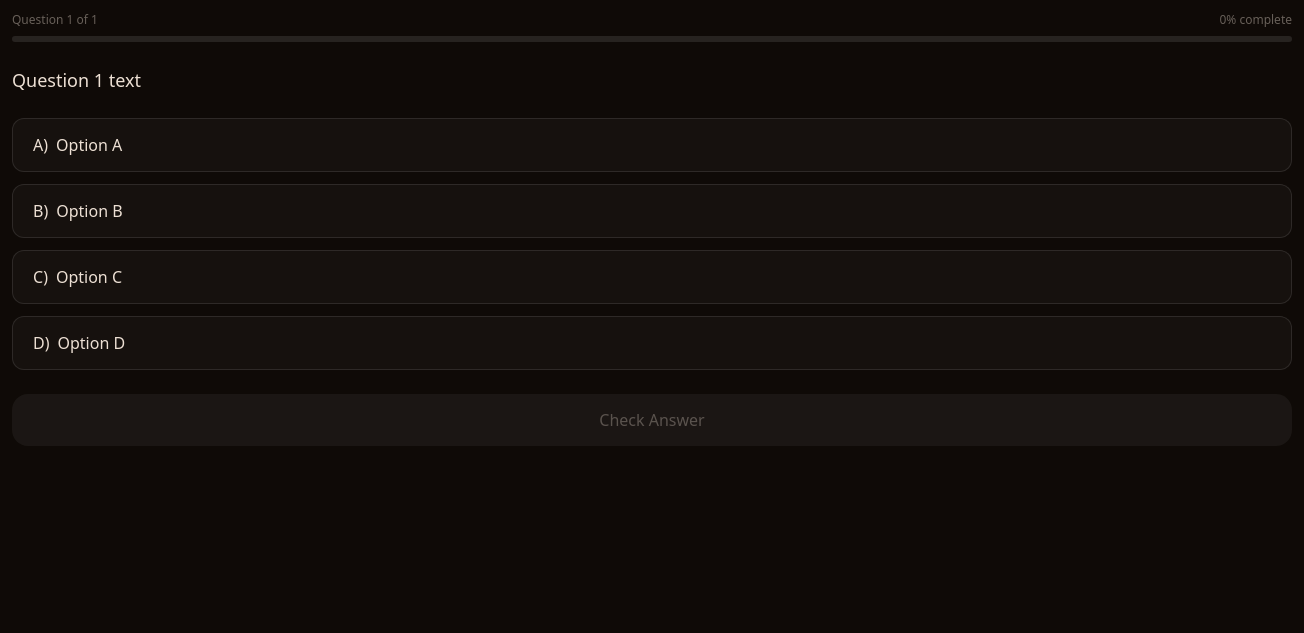
Test: QuizRenderer — answer selection › prevents changing the selection after revealing the answer
What coordinates should you click on to do the following:
click the button "A)Option A"
I would click on:
 (89, 145)
Its box is left=12, top=118, right=1292, bottom=172.
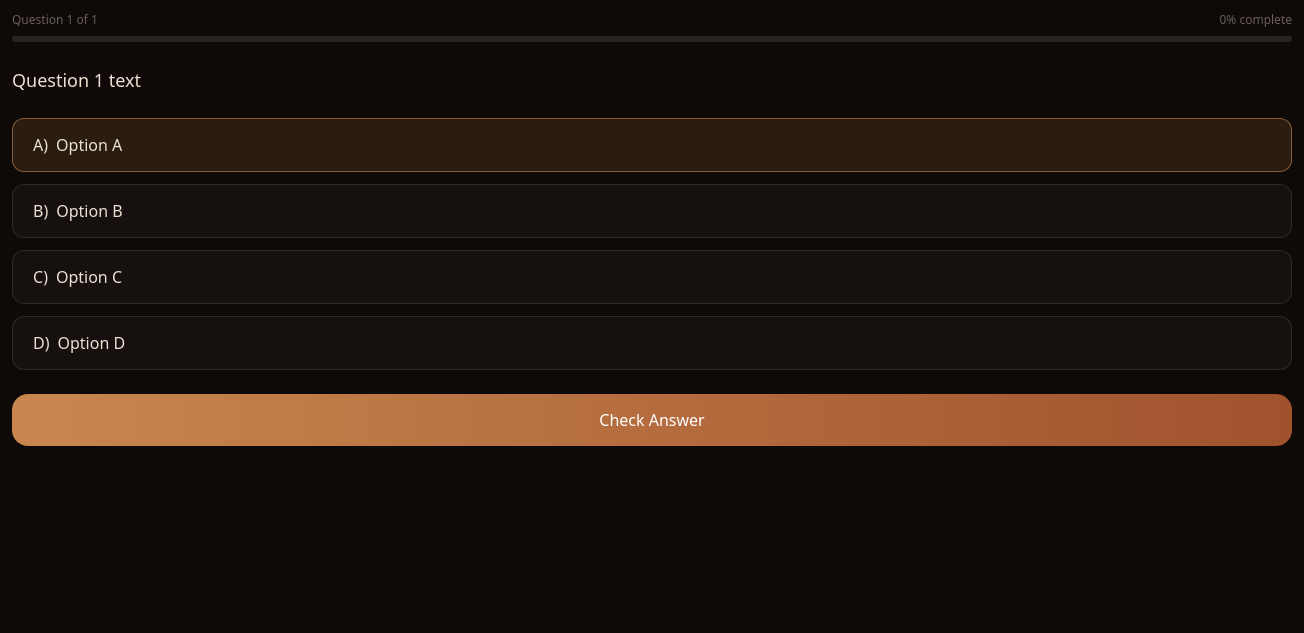
What coordinates should you click on to do the following:
click the button "Check Answer"
I would click on:
 (652, 420)
Its box is left=12, top=394, right=1292, bottom=446.
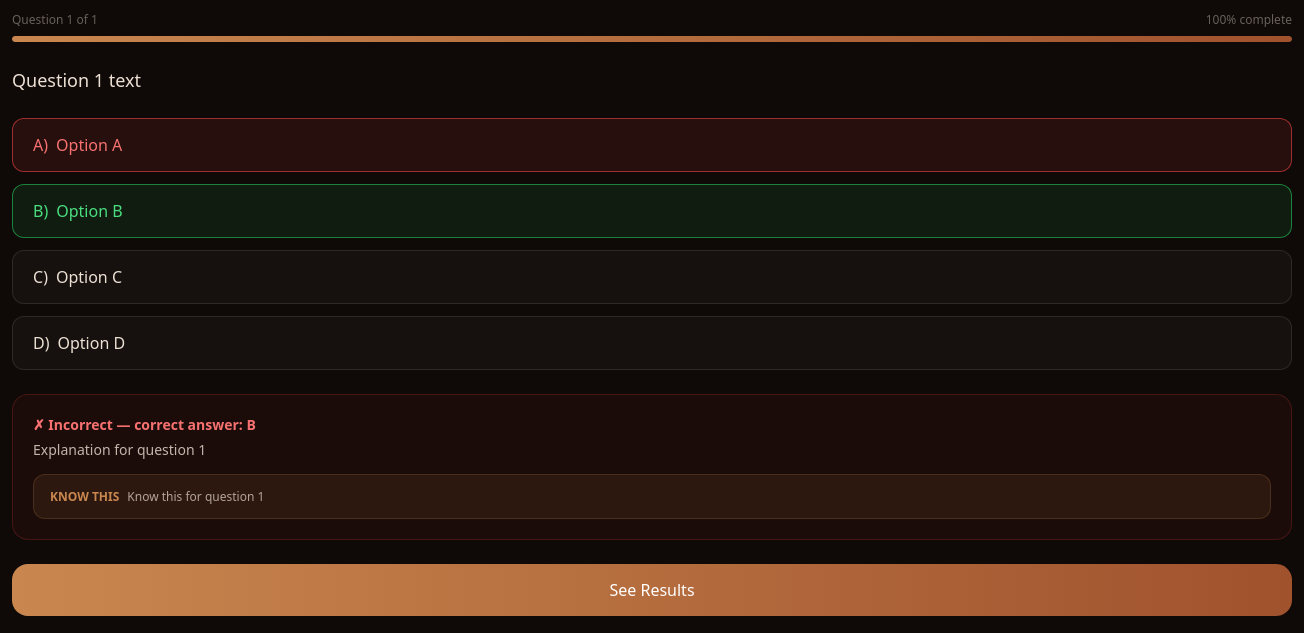
Expected: the button "C)Option C" is disabled, left=12, top=250, right=1292, bottom=304
Now the button "A)Option A" is disabled, box left=12, top=118, right=1292, bottom=172
Now the button "B)Option B" is disabled, box left=12, top=184, right=1292, bottom=238
